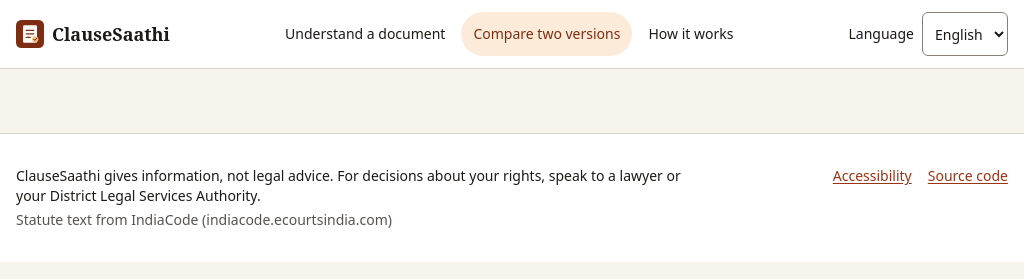
Test: site chrome › marks the current page, switches language, and has no axe violations
The width and height of the screenshot is (1024, 279).
Select "हिन्दी" in the dropdown labelled "Language". click: (965, 34)
box: [922, 12, 1008, 56]
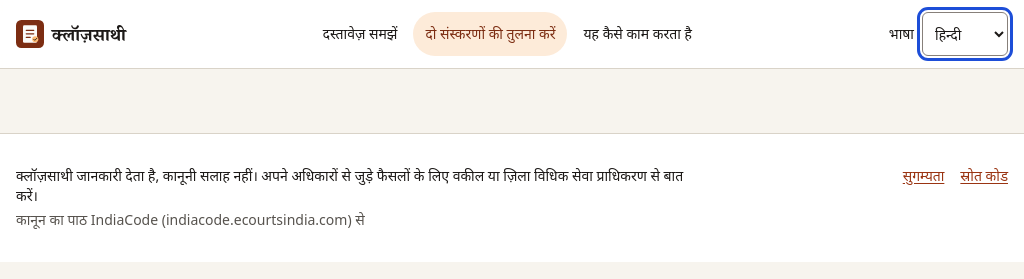
Check: the link "दो संस्करणों की तुलना करें" is shown, box [413, 12, 568, 56]
Check: the text "कानूनी सलाह नहीं" is shown, box [16, 166, 683, 205]
